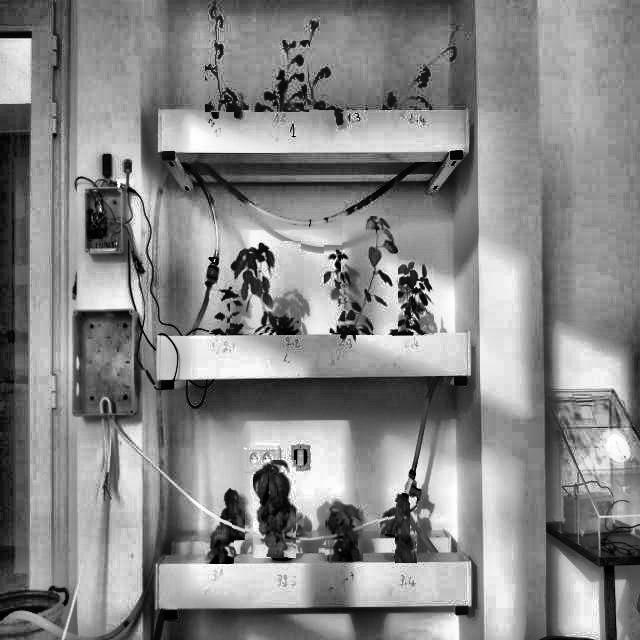plants: (383, 26, 466, 110), (230, 241, 301, 335), (342, 216, 398, 335), (294, 18, 366, 110), (205, 1, 251, 112), (251, 40, 310, 112), (253, 460, 296, 558), (392, 260, 434, 336), (324, 245, 359, 333), (325, 496, 363, 561), (209, 284, 250, 334), (395, 493, 417, 563), (217, 487, 245, 540), (205, 521, 234, 564), (378, 502, 410, 534)
